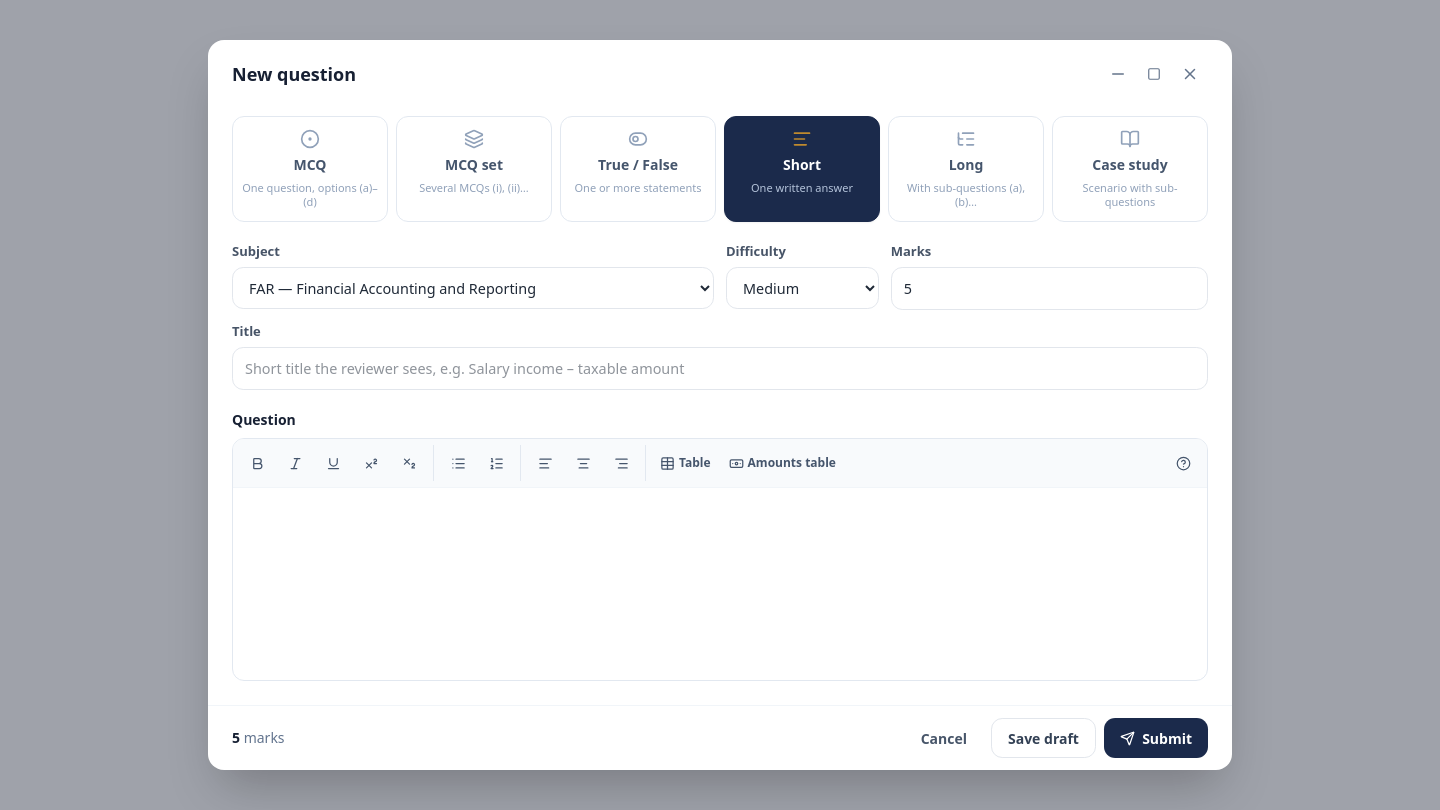
Scenario: QuestionEditor › does not send an incomplete question; explains what is missing
Click the button "Submit".
click(1156, 738)  # box [1104, 718, 1208, 758]
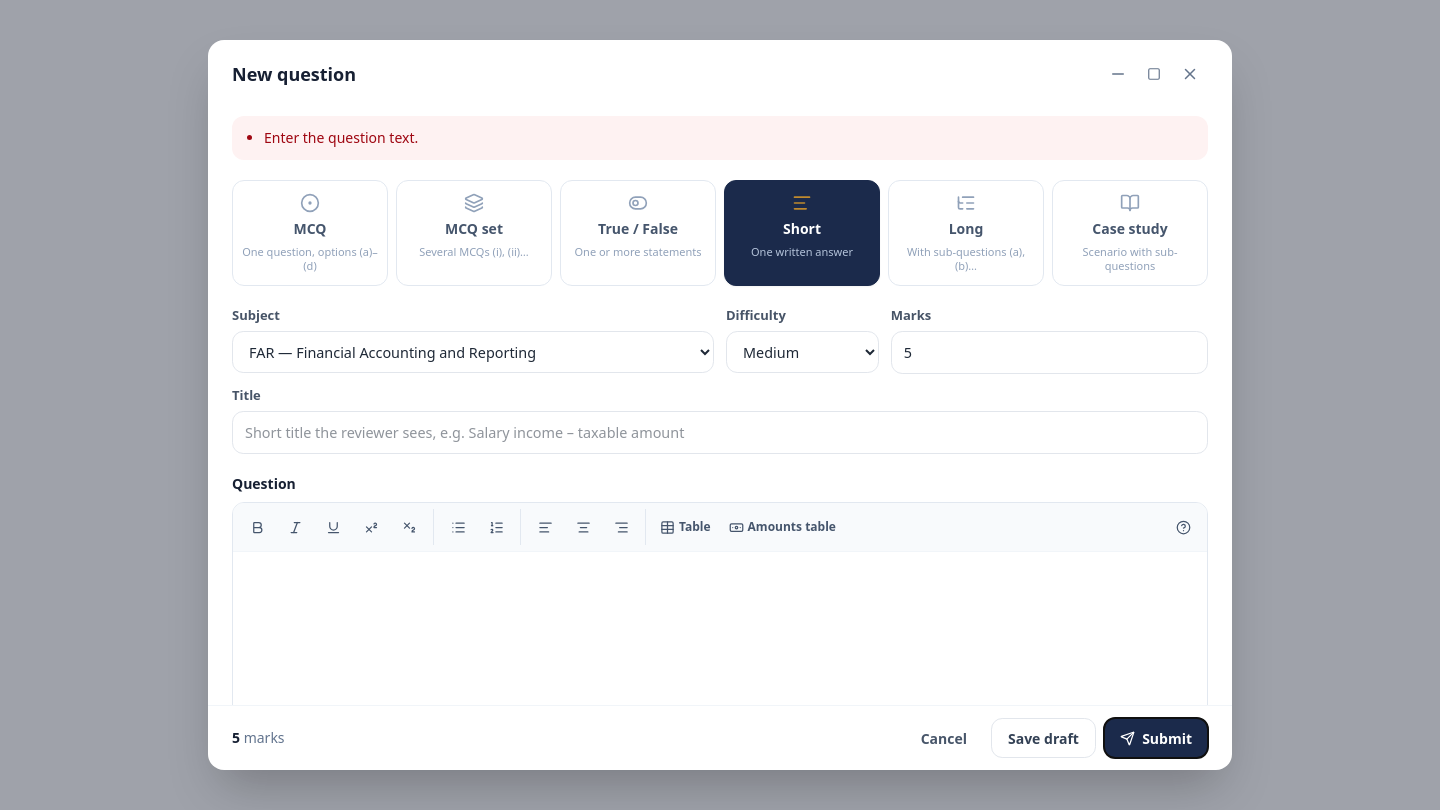
Expected: the list item "Enter the question text." is shown, [264, 128, 418, 147]
